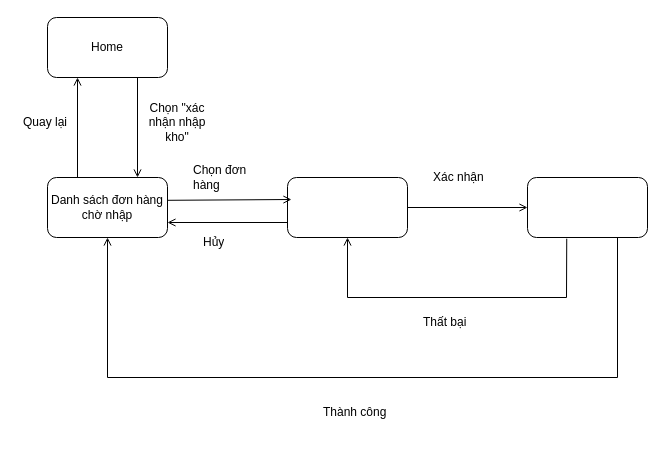
Image size: 665x455. Some labels were removed from this diagram. The centre of each missing label's shape, as x and y in pixels:
Màn hình nhập kho thực tế: (347,207)
Thông báo kết quả: (587,207)
